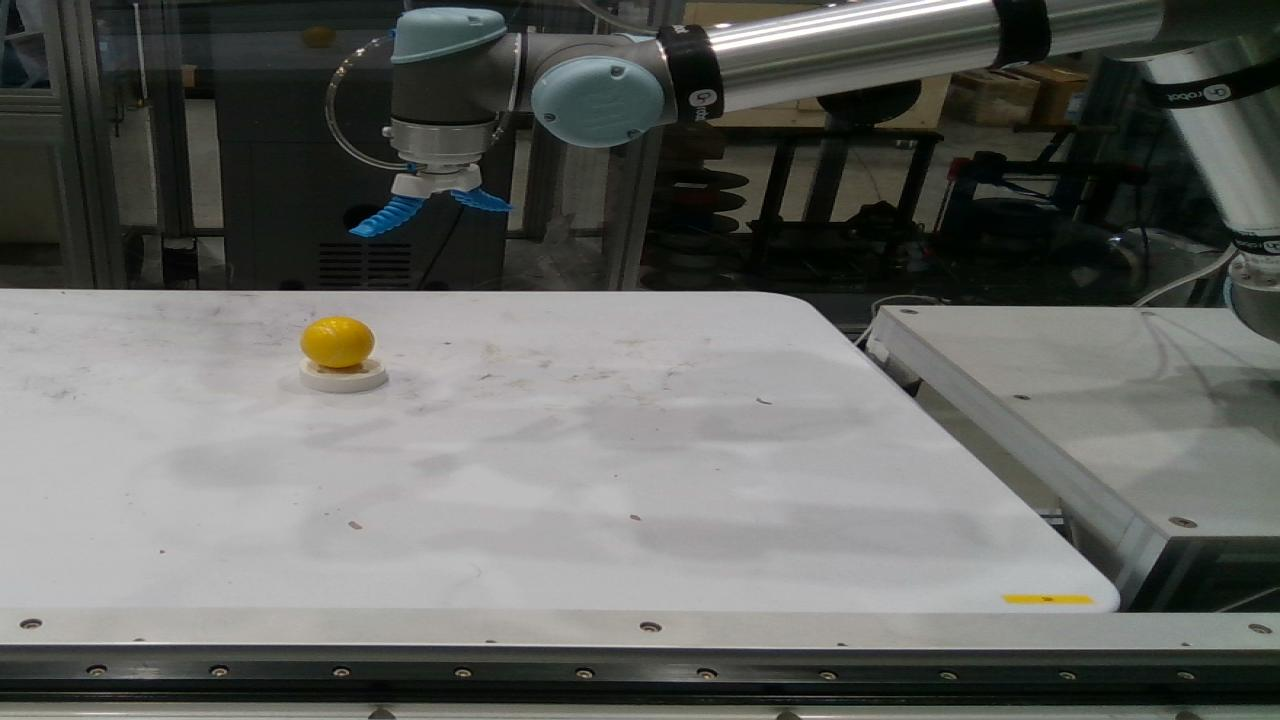UR5: (386, 1, 1279, 340)
gripper_left: (451, 187, 512, 213)
gripper_right: (349, 196, 423, 237)
target: (301, 316, 374, 369), (300, 358, 388, 392)
